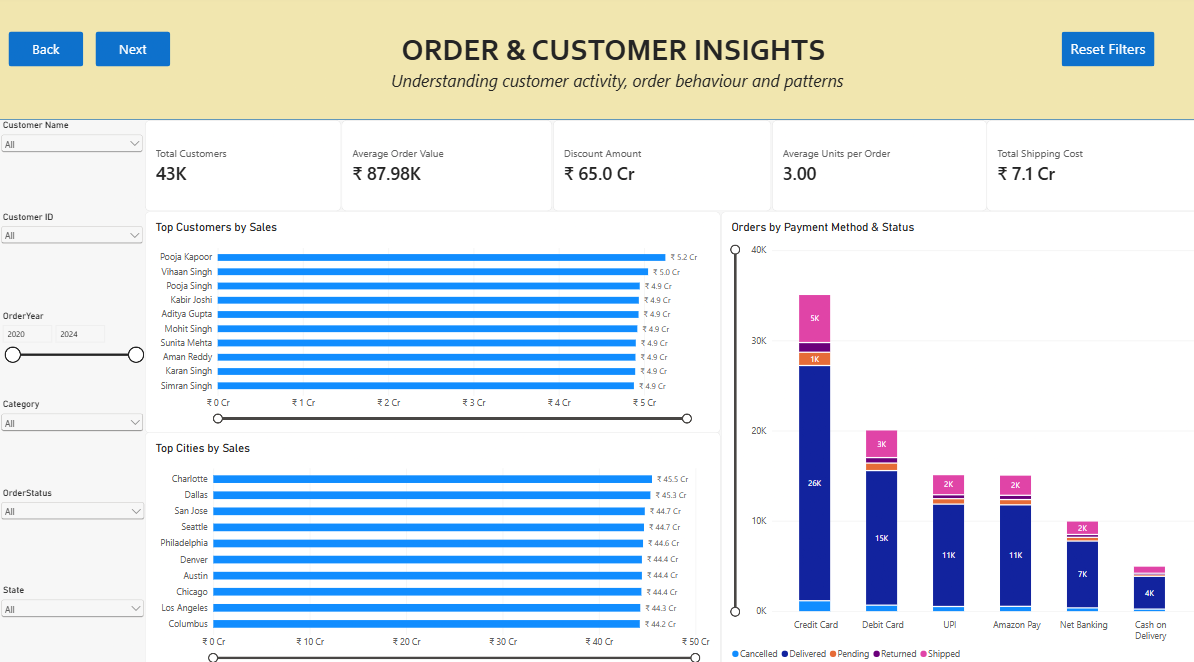

Layout of this report page (visuals, bound fields, positions):
{"tool":"powerbi","page":{"name":"Order & Customer Insights","canvas":[1920,1080],"ordinal":3},"visuals":[{"type":"shape","box":[0,0,1920.7,200.4],"z":0},{"type":"textbox","box":[625,120,800,80],"z":1000},{"type":"textbox","box":[642.5,60,730,60],"z":2000},{"type":"cardVisual","fields":{"Data":["Amazon_ETL_Processed.Total Customers"]},"box":[235,200,312.5,145],"z":3000},{"type":"cardVisual","fields":{"Data":["Amazon_ETL_Processed.Average Order Value"]},"box":[547.5,200,335,145],"z":4000},{"type":"cardVisual","fields":{"Data":["Amazon_ETL_Processed.Average Units per Order"]},"box":[1230,200,342.5,145],"z":5000},{"type":"cardVisual","fields":{"Data":["Amazon_ETL_Processed.Total Shipping Cost Adaptive"]},"box":[1572.5,200,347.5,145],"z":6000},{"type":"cardVisual","fields":{"Data":["Amazon_ETL_Processed.Discount Amount Adaptive"]},"box":[882.5,200,347.5,145],"z":7000},{"type":"slicer","fields":{"Values":["Amazon_ETL_Processed.OrderYear"]},"box":[0,502.5,235.7,142.9],"z":8000},{"type":"slicer","fields":{"Values":["Amazon_ETL_Processed.Category"]},"box":[0,645,235.7,140],"z":9000},{"type":"slicer","fields":{"Values":["Amazon_ETL_Processed.OrderStatus"]},"box":[0,785,237.5,155],"z":10000},{"type":"slicer","fields":{"Values":["Amazon_ETL_Processed.State"]},"box":[0,940,237.1,140],"z":11000},{"type":"clusteredBarChart","title":"Top Customers by Sales","fields":{"Category":["Amazon_ETL_Processed.CustomerName"],"Y":["Amazon_ETL_Processed.Total Sales Adaptive"]},"box":[233.8,346,915,352.5],"z":12000},{"type":"clusteredBarChart","title":"Top Cities by Sales","fields":{"Category":["Amazon_ETL_Processed.City"],"Y":["Amazon_ETL_Processed.Total Sales Adaptive"]},"box":[235,697.5,915,382.5],"z":13000},{"type":"columnChart","title":"Orders by Payment Method & Status","fields":{"Category":["Amazon_ETL_Processed.PaymentMethod"],"Y":["Amazon_ETL_Processed.Total Orders"],"Series":["Amazon_ETL_Processed.OrderStatus"]},"box":[1150,345,770,735],"z":14000},{"type":"actionButton","box":[1690.5,60.7,148.2,55.9],"z":15000},{"type":"actionButton","box":[17,60.7,119,55.9],"z":16000},{"type":"actionButton","box":[155.1,59.6,119,55.9],"z":17000},{"type":"slicer","fields":{"Values":["Amazon_ETL_Processed.CustomerName"]},"box":[0,200,235,150],"z":18000},{"type":"slicer","fields":{"Values":["Amazon_ETL_Processed.CustomerID"]},"box":[0,345,235,157.5],"z":19000}]}

Visuals, with their boxes in screenshot pixels (x1, y1, x2, y2), scaled from the page's 1920x1080 canvas onto the 1194x662 screenshot:
shape: 0:0:1193:123
textbox: 389:74:886:123
textbox: 400:37:854:74
cardVisual - Amazon_ETL_Processed.Total Customers: 146:123:340:211
cardVisual - Amazon_ETL_Processed.Average Order Value: 340:123:549:211
cardVisual - Amazon_ETL_Processed.Average Units per Order: 765:123:978:211
cardVisual - Amazon_ETL_Processed.Total Shipping Cost Adaptive: 978:123:1193:211
cardVisual - Amazon_ETL_Processed.Discount Amount Adaptive: 549:123:765:211
slicer - Amazon_ETL_Processed.OrderYear: 0:308:147:396
slicer - Amazon_ETL_Processed.Category: 0:395:147:481
slicer - Amazon_ETL_Processed.OrderStatus: 0:481:148:576
slicer - Amazon_ETL_Processed.State: 0:576:147:661
"Top Customers by Sales" clusteredBarChart: 145:212:714:428
"Top Cities by Sales" clusteredBarChart: 146:428:715:661
"Orders by Payment Method & Status" columnChart: 715:211:1193:661
actionButton: 1051:37:1143:71
actionButton: 11:37:85:71
actionButton: 96:37:170:71
slicer - Amazon_ETL_Processed.CustomerName: 0:123:146:215
slicer - Amazon_ETL_Processed.CustomerID: 0:211:146:308
